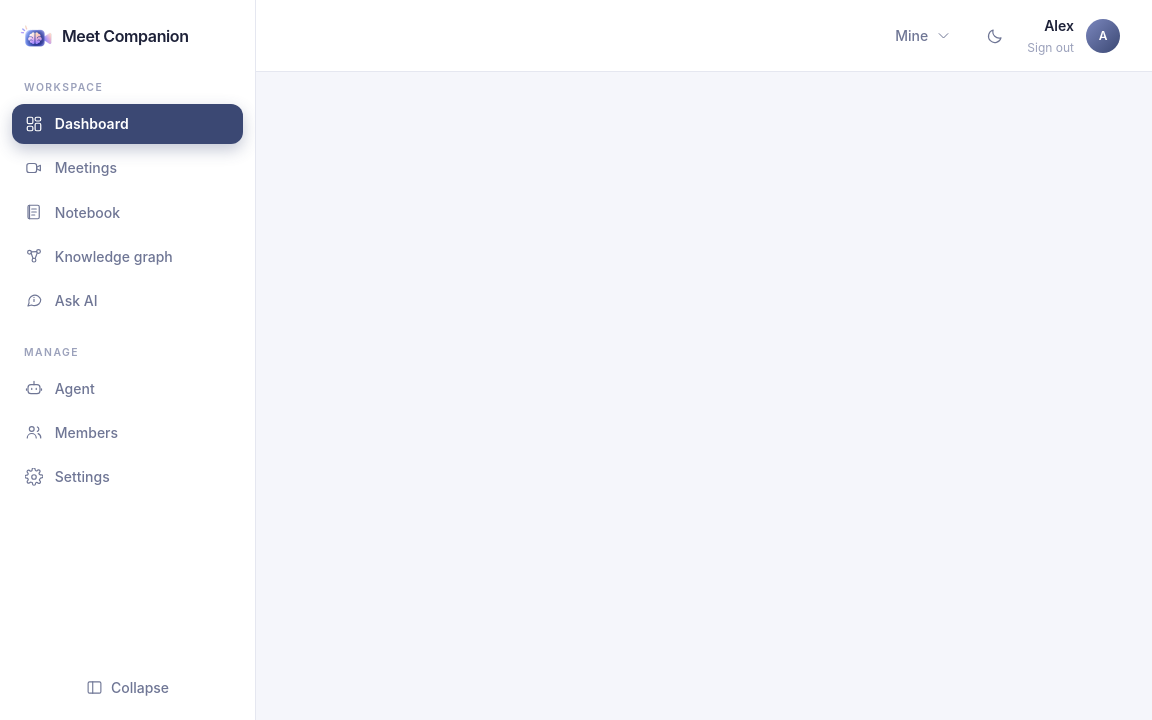
joining a workspace from the picker › cancel button dismisses the create workspace form and returns to the switcher list
Click the button titled "Switch workspace" at (923, 36), box [879,15,967,56]
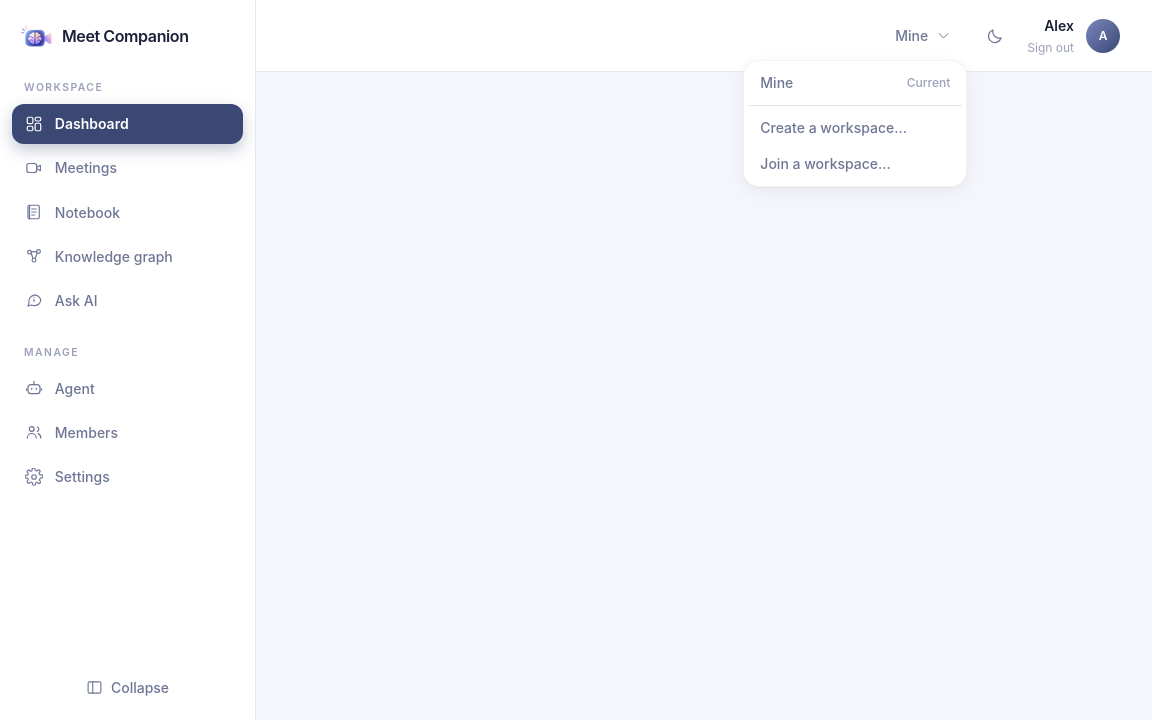
Click the button "Create a workspace…" at (855, 128), box [748,110,962,146]
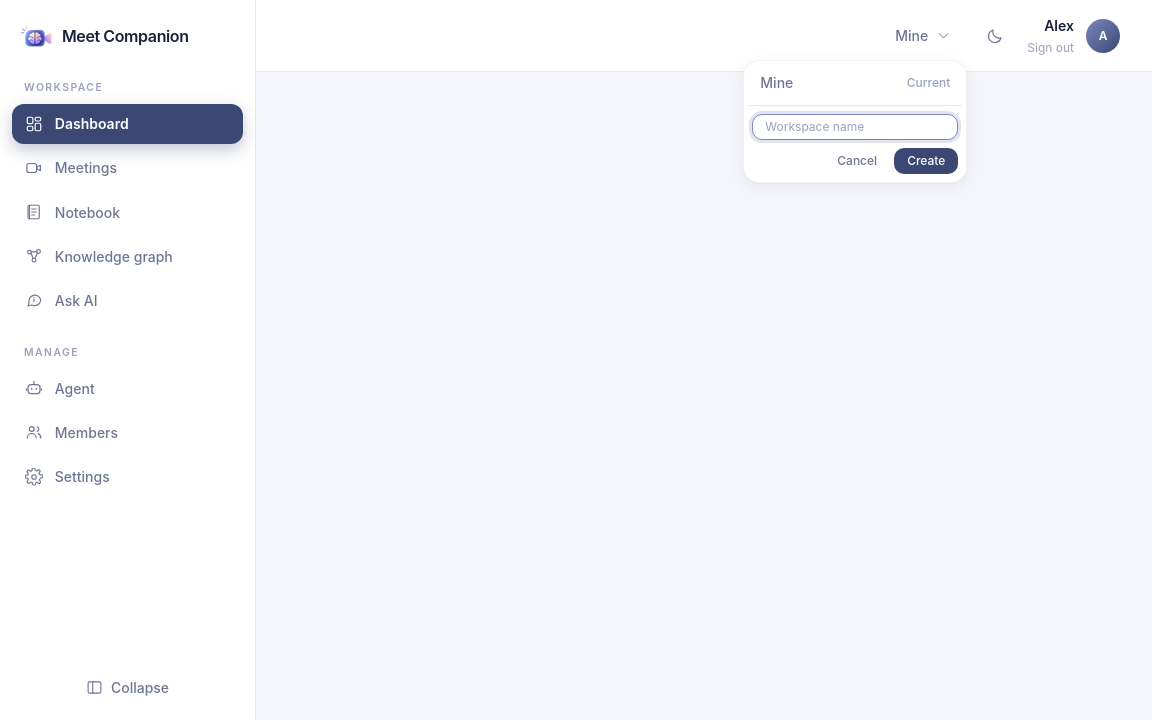
Check: the button "Create" is shown, box [894,148,958,174]
Check: the field named "New workspace name" is shown, box [752,114,958,140]
Click the button "Cancel" at (857, 161), box [826,148,888,174]
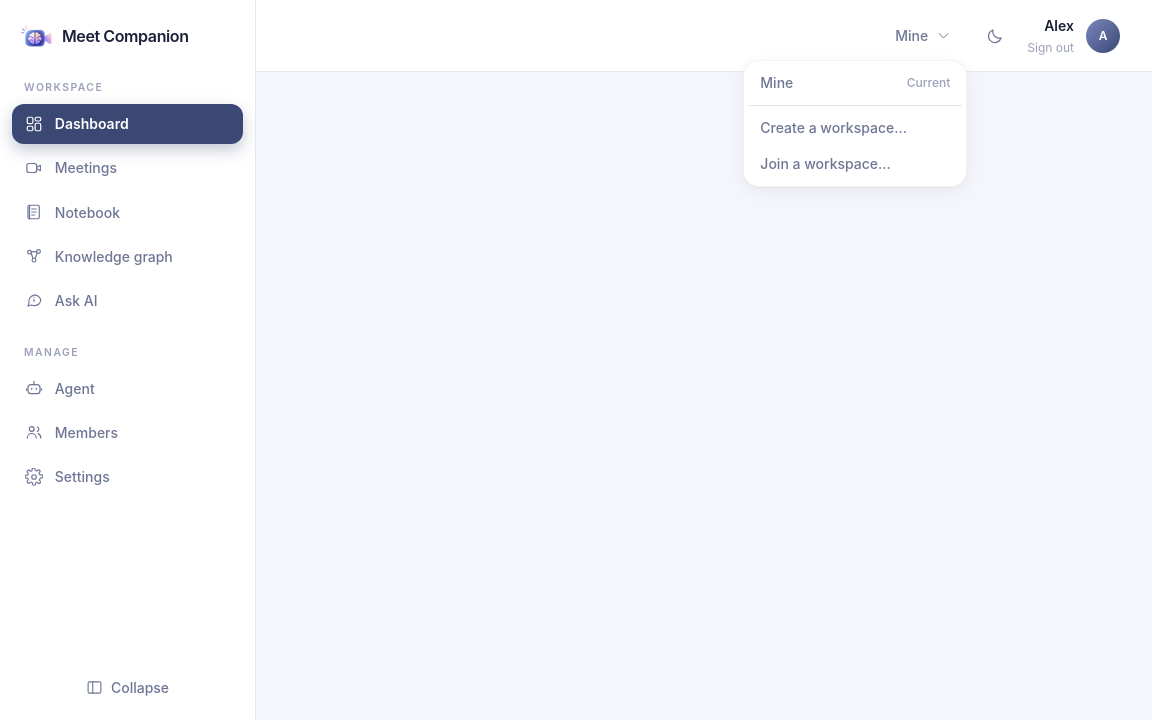
Check: the button "Create a workspace…" is shown, box [748,110,962,146]
Check: the button "Join a workspace…" is shown, box [748,146,962,182]
